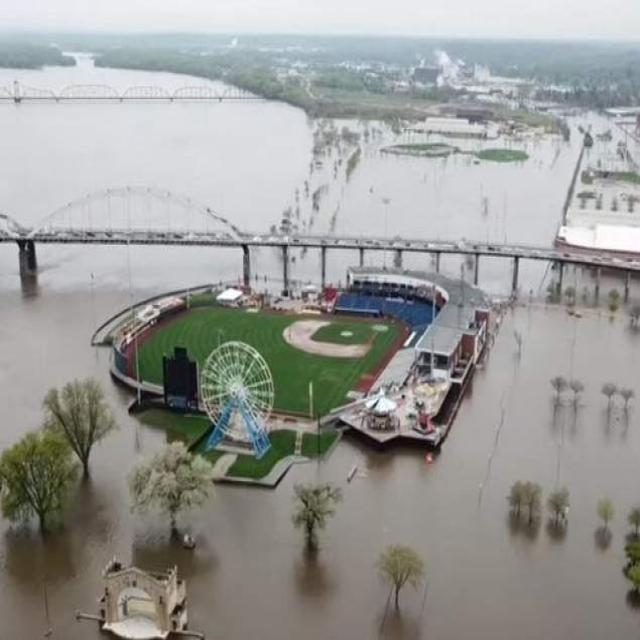flooded_areas: (2, 99, 639, 639)
